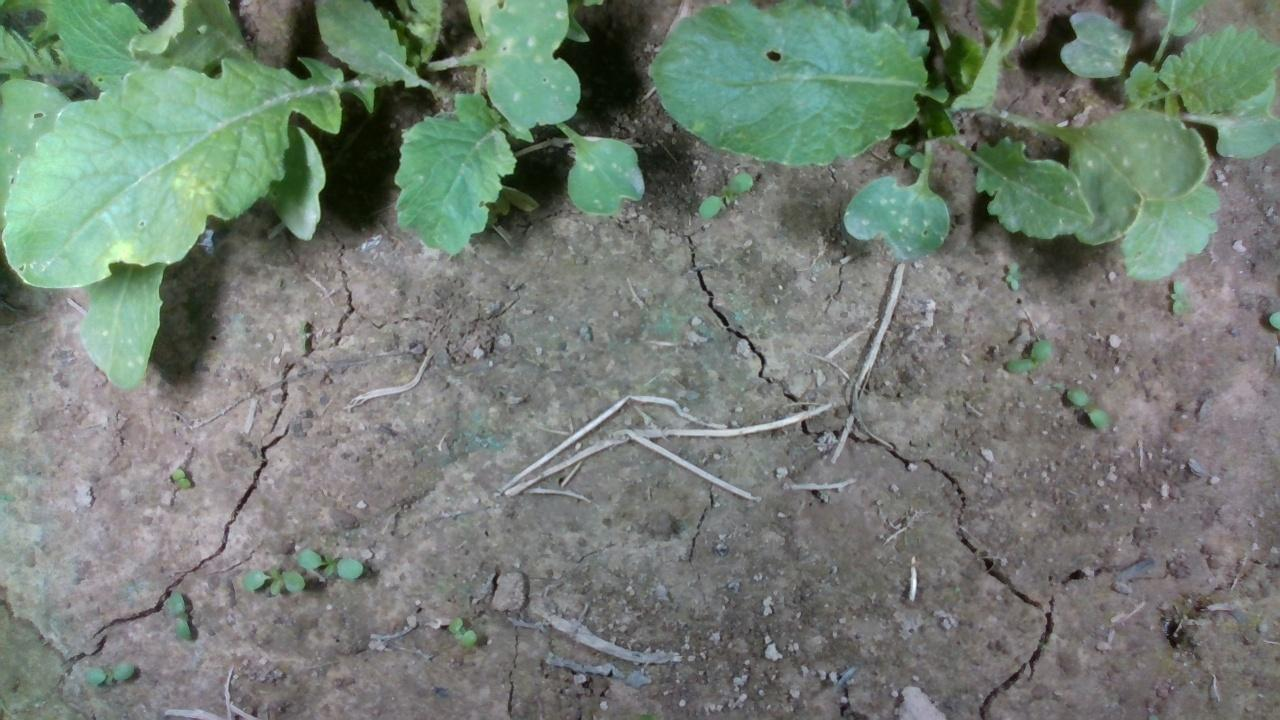weed: (696, 171, 752, 219), (1064, 384, 1110, 434), (1002, 338, 1052, 374), (79, 658, 134, 688), (445, 614, 477, 649), (169, 590, 191, 639), (1169, 278, 1185, 318), (168, 466, 190, 491), (1000, 271, 1019, 290)
